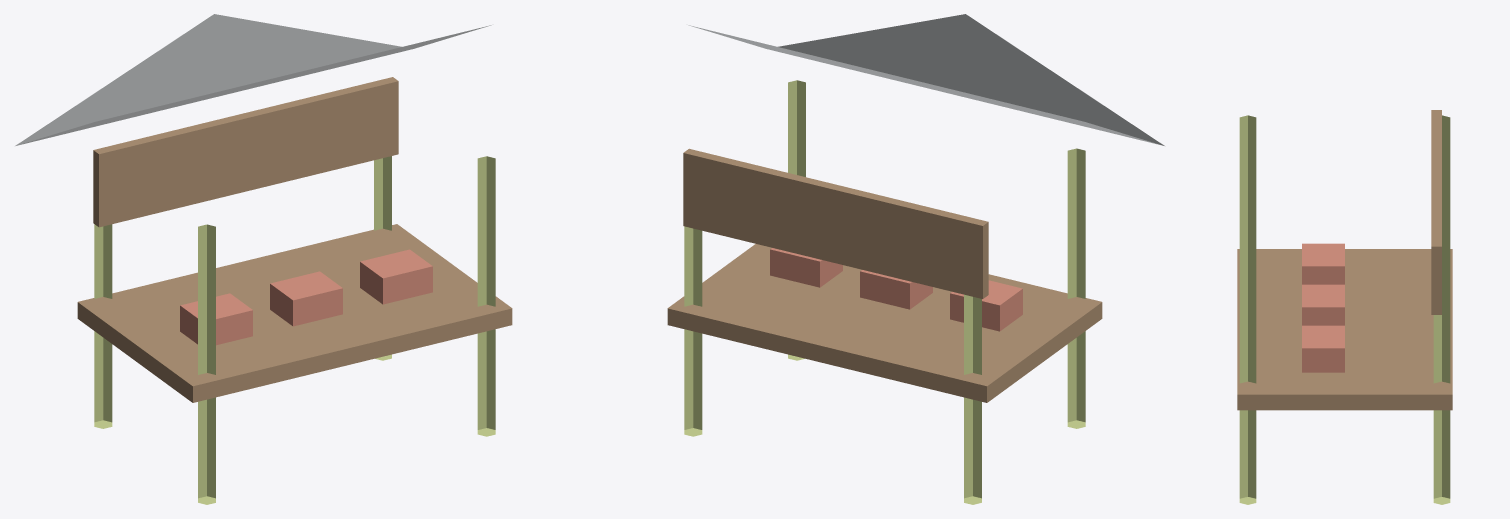
File: market_stall.glb
The picture shows the model from 3 angles, left to right: view 1: azimuth 30°, elevation 25°; view 2: azimuth 150°, elevation 25°; view 3: azimuth 270°, elevation 25°; orthographic projection. The views are drawn at different scales.
Visible parts, largest first — view 1: market_stall; view 2: market_stall; view 3: market_stall.
Part boxes in pixels (<box>): market_stall: <box>15,14,512,504</box>; market_stall: <box>667,14,1164,504</box>; market_stall: <box>1237,110,1452,504</box>.
Size of the model in its own units: 4 by 3.4 by 2.8.
